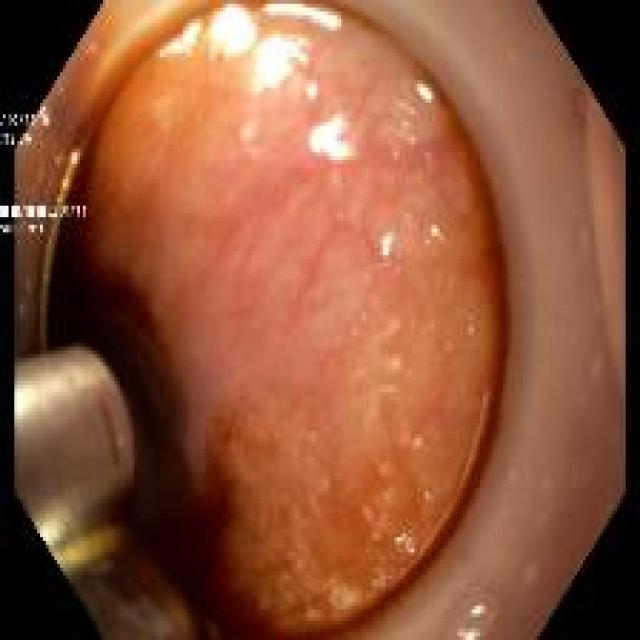color misalignment: (1, 205, 86, 218), (1, 115, 49, 127), (1, 133, 33, 146), (20, 223, 43, 236), (1, 224, 16, 234)
contrast: (129, 463, 255, 626), (44, 235, 128, 355), (111, 360, 176, 427)
instrument: (15, 349, 134, 580)
specularity: (249, 36, 309, 92), (209, 7, 256, 59), (311, 113, 352, 162), (266, 5, 340, 31), (160, 19, 202, 57), (16, 386, 39, 419), (417, 86, 433, 104), (396, 100, 415, 115), (458, 631, 481, 640), (382, 236, 391, 256), (401, 133, 415, 145), (472, 605, 484, 618), (306, 85, 317, 98), (405, 540, 413, 556), (38, 105, 46, 119), (70, 152, 78, 165), (396, 536, 407, 545), (431, 227, 439, 238), (404, 123, 408, 128)
